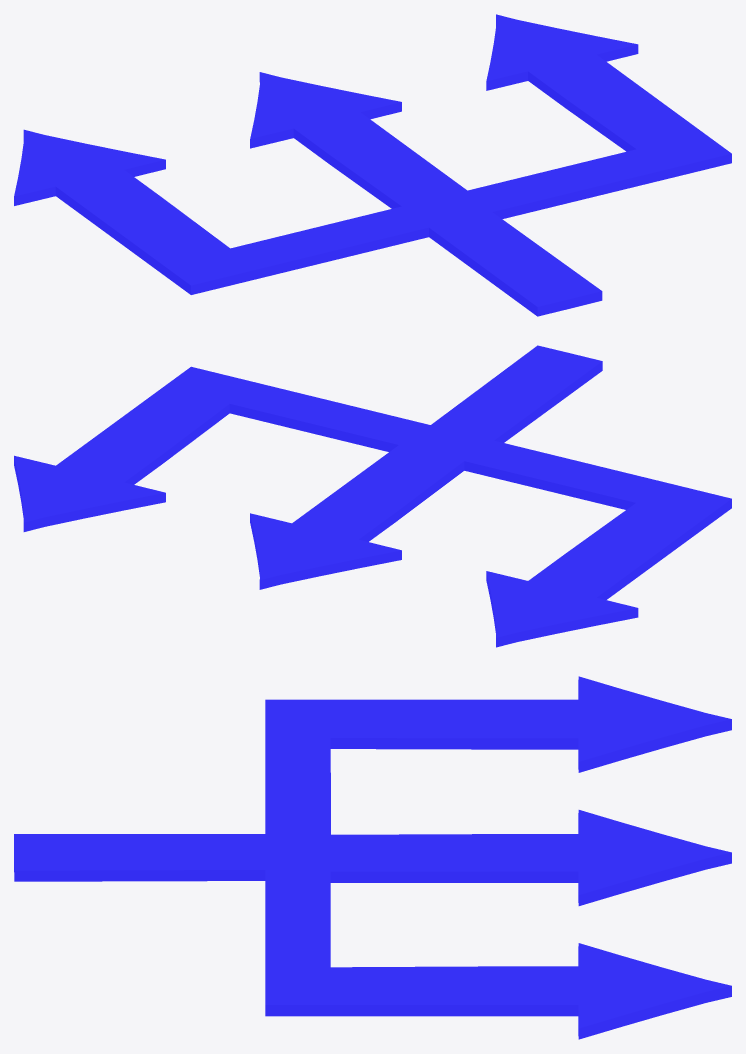
File: ArrowSignHint.glb
3 renders of one model, top to bottom at view 1: azimuth 30°, elevation 25°; view 2: azimuth 150°, elevation 25°; view 3: azimuth 270°, elevation 25°, orthographic. The views are drawn at different scales.
Visible parts, largest first — view 1: Plane.001; view 2: Plane.001; view 3: Plane.001.
Boxes of the visible parts, <box> form: Plane.001: <box>14,14,731,316</box>; Plane.001: <box>14,345,731,647</box>; Plane.001: <box>14,676,731,1039</box>.
Bounding box in the file's own units: 5.82 × 0.0852 × 5.01.
